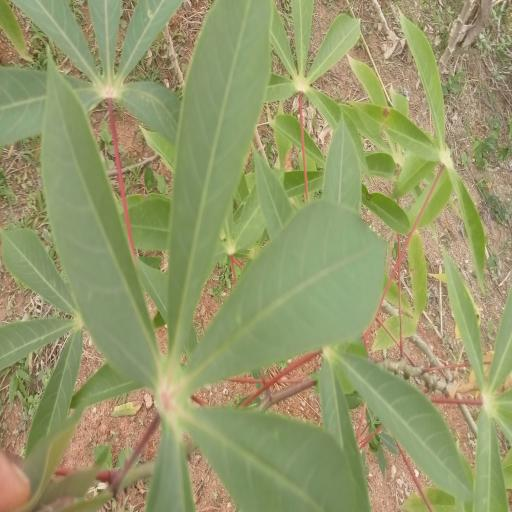Cassava_Healthy: (41, 5, 385, 512)
